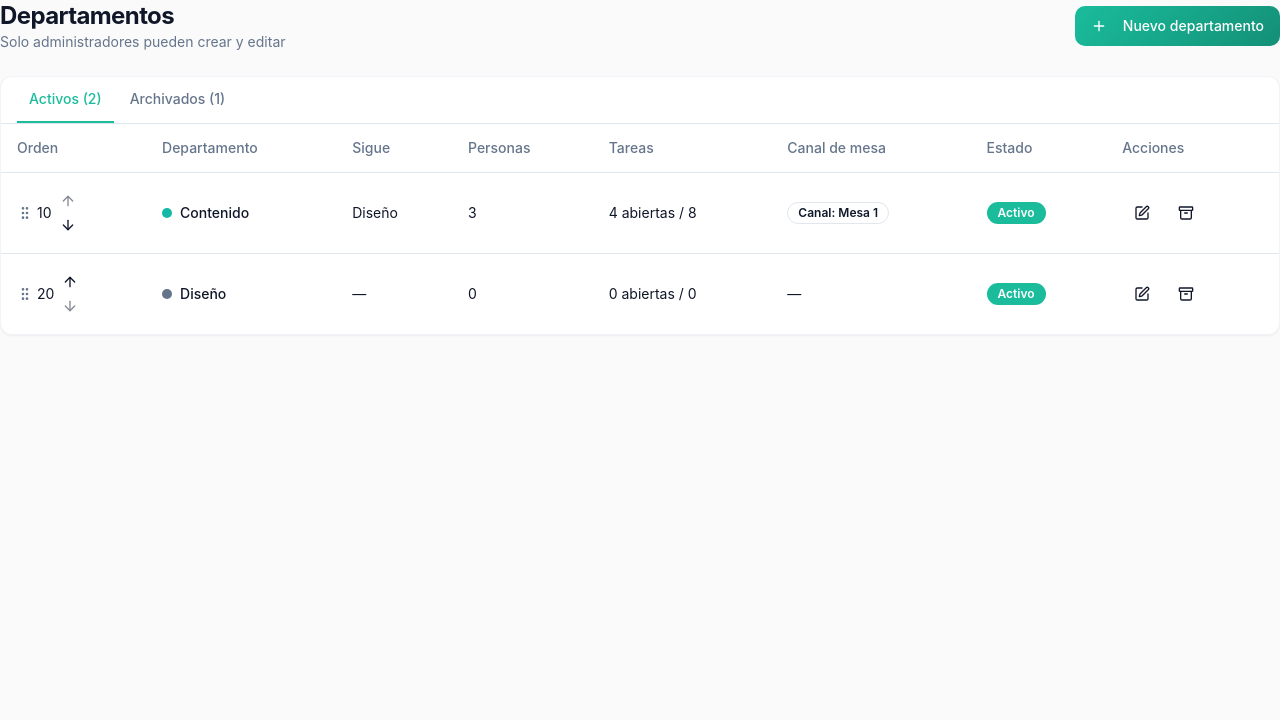
it: Departamentos · S9 › lista todas las referencias y solo permite Entendido si está bloqueado
Expected: the text "Contenido" is shown, x1=162 y1=202 x2=249 y2=222
Click the tab "Archivados (1)" at x=177, y=100, box x1=118 y1=77 x2=237 y2=123
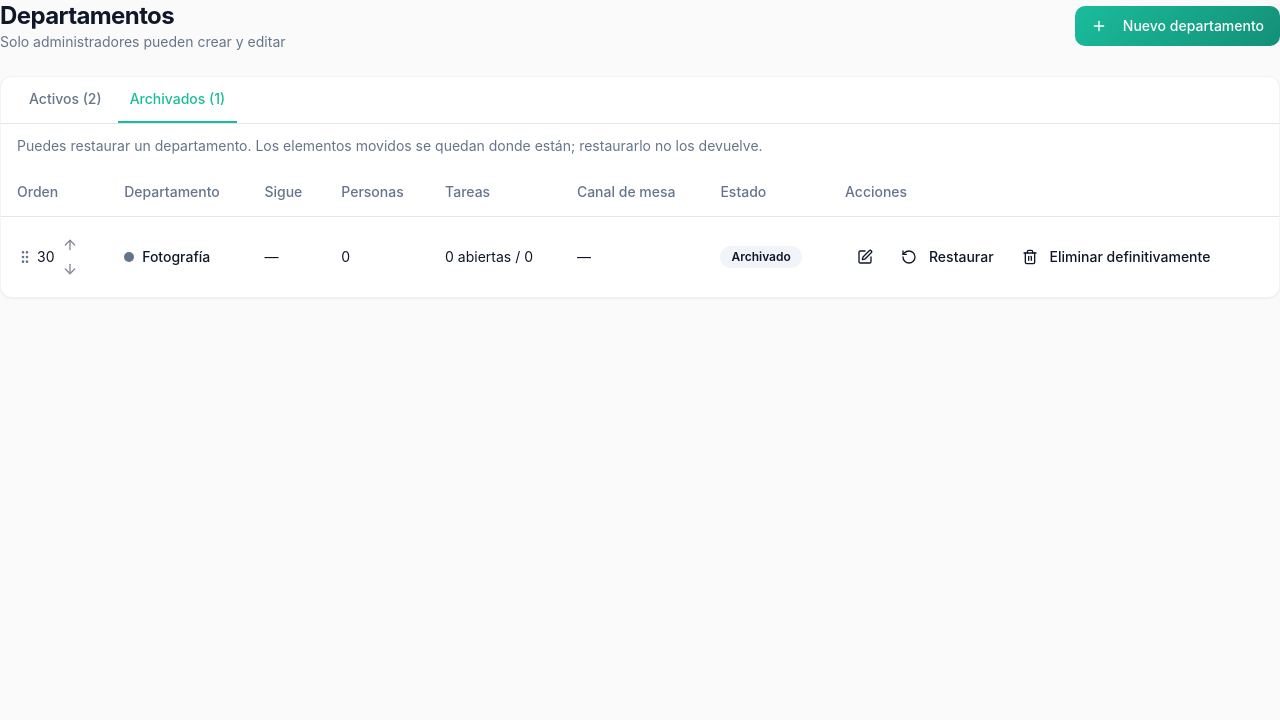
Click the button with aria-label "Eliminar definitivamente Fotografía" at x=1116, y=256, box x1=1010 y1=238 x2=1222 y2=274
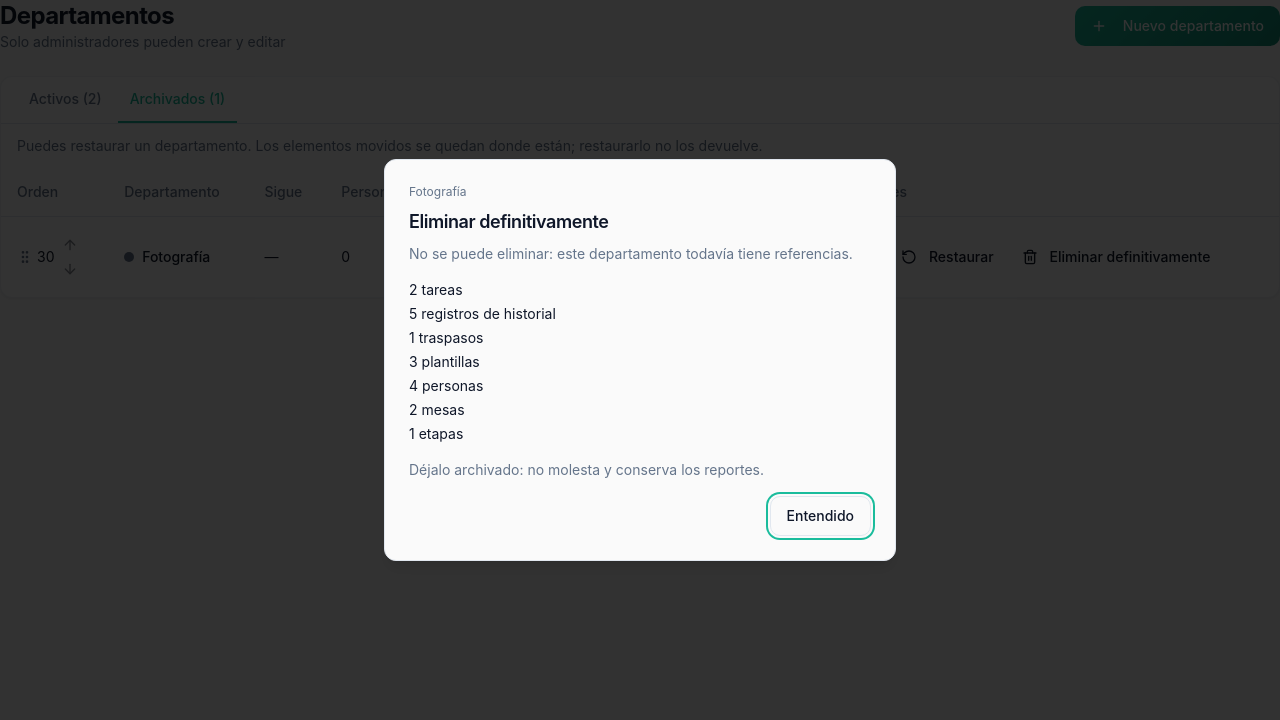
Now the text "Déjalo archivado: no molesta y conserva los reportes." is shown, box x1=409 y1=461 x2=764 y2=478
Now the list item "2 tareas" is shown, box x1=409 y1=281 x2=463 y2=298
Now the list item "5 registros de historial" is shown, box x1=409 y1=305 x2=556 y2=322
Click the button "Entendido" at x=820, y=516, box x1=770 y1=496 x2=871 y2=536
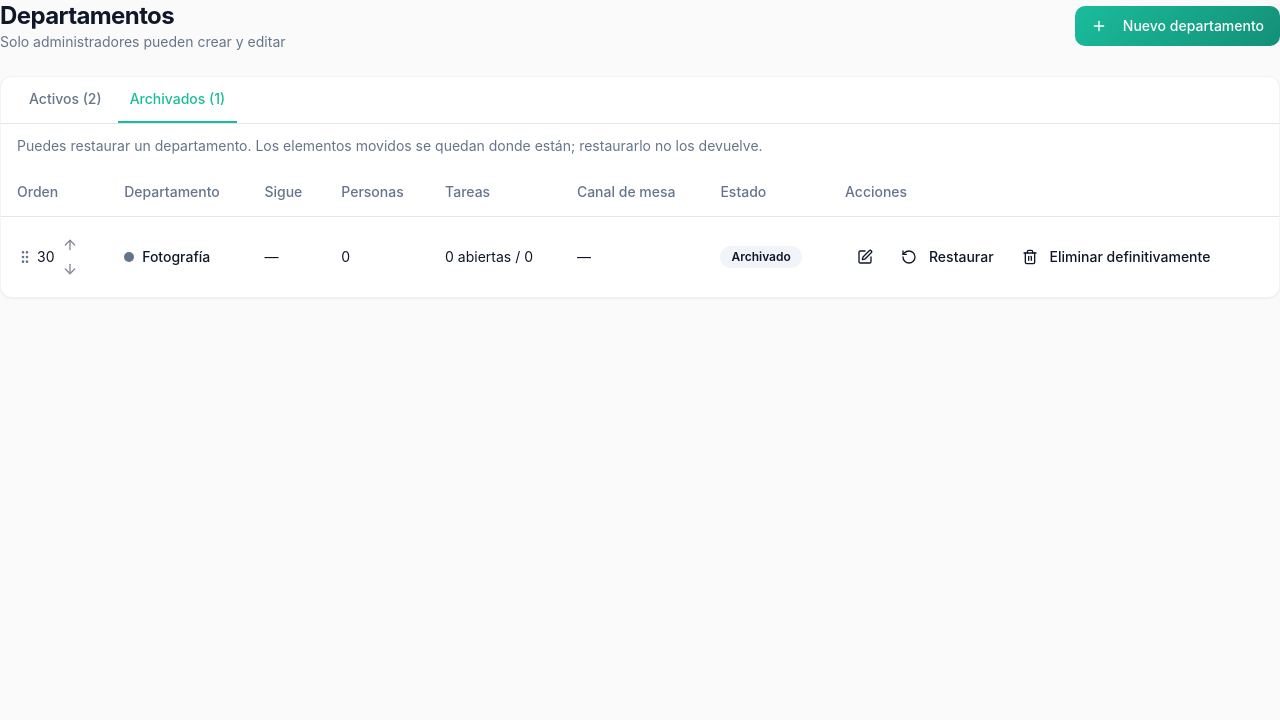
Now the dialog is gone
